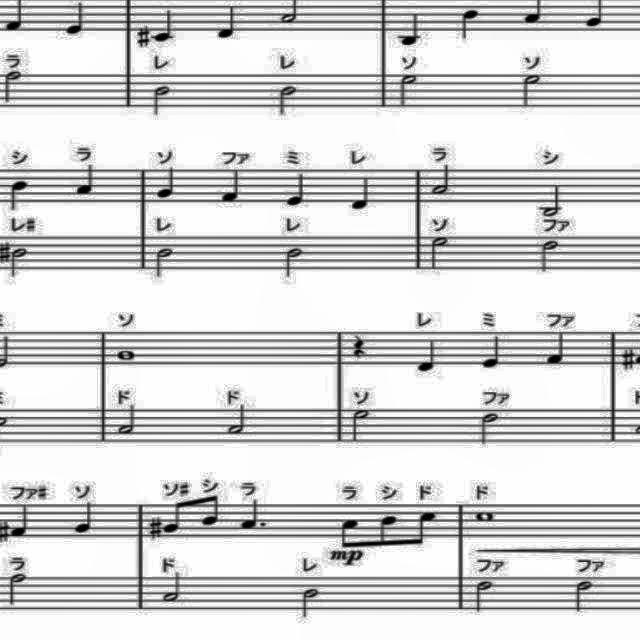Diez: (618, 346, 638, 374), (146, 514, 162, 546)
Eighth-note: (410, 506, 440, 550), (194, 493, 228, 531), (162, 497, 190, 537), (373, 512, 399, 552), (340, 516, 364, 552)
Full-note: (113, 346, 143, 366), (474, 505, 498, 527)
Half-note: (0, 69, 30, 117), (272, 83, 308, 119), (297, 586, 331, 622), (342, 407, 374, 445), (518, 70, 548, 110), (149, 242, 179, 282), (538, 180, 568, 220), (472, 410, 503, 448), (282, 244, 310, 284), (116, 400, 144, 440), (424, 235, 452, 273), (568, 580, 596, 618), (396, 68, 419, 114), (223, 402, 251, 438), (5, 572, 32, 608), (538, 236, 562, 276), (472, 576, 496, 616), (160, 568, 184, 606), (150, 82, 174, 118), (431, 159, 453, 197), (10, 244, 30, 278)
Quarter-dot: (238, 496, 274, 534)
Quarter-note: (214, 164, 250, 208), (70, 159, 102, 199), (280, 170, 312, 210), (544, 328, 572, 372), (412, 334, 442, 374), (397, 11, 427, 49), (61, 0, 89, 40), (150, 164, 178, 202), (346, 172, 374, 210), (214, 4, 242, 42), (6, 171, 30, 215), (452, 6, 481, 42), (8, 500, 34, 540), (481, 331, 507, 371), (150, 8, 178, 44), (70, 498, 96, 536)
Quarter-rest: (347, 332, 369, 363)
